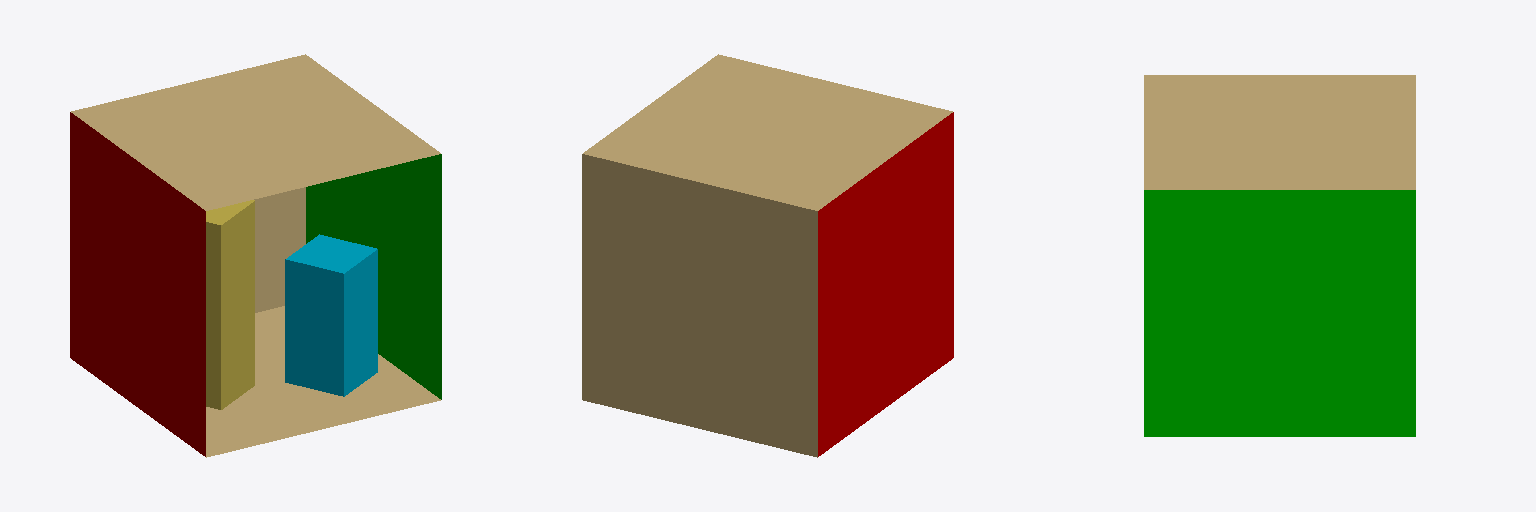
Rendered from cornell-box.obj.
The picture shows the model from 3 angles: view 1: azimuth 30°, elevation 25°; view 2: azimuth 150°, elevation 25°; view 3: azimuth 270°, elevation 25°; orthographic projection.
Bounding box in the file's own units: 4 × 4 × 4.